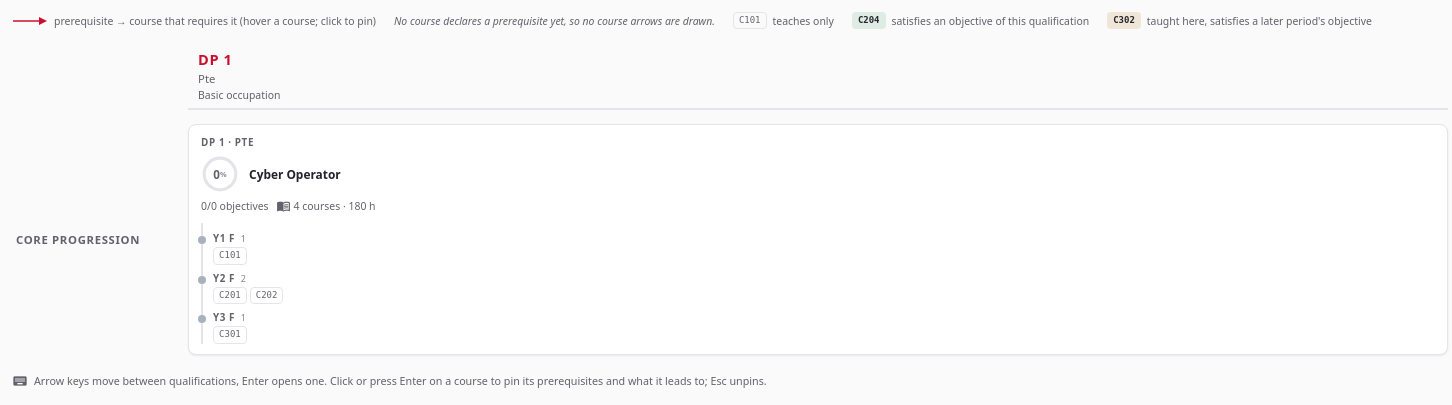
Test: CareerMapComponent course prerequisites › says so in the key when no course declares a prerequisite
Expected: the element with class "legend" shows "No course declares a prerequisite yet", [394,14,715,28]
Hover over the button "C202".
mouse_move(266, 296)  # box [250,287,283,304]
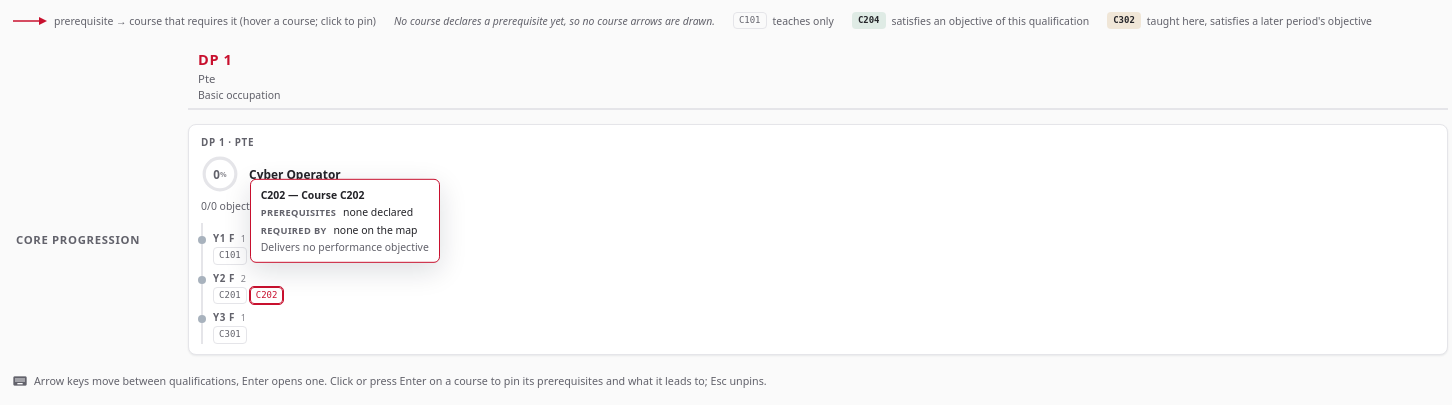
Expected: the tooltip with id "tn-course-card" shows "none declared", [340,205,413,219]
